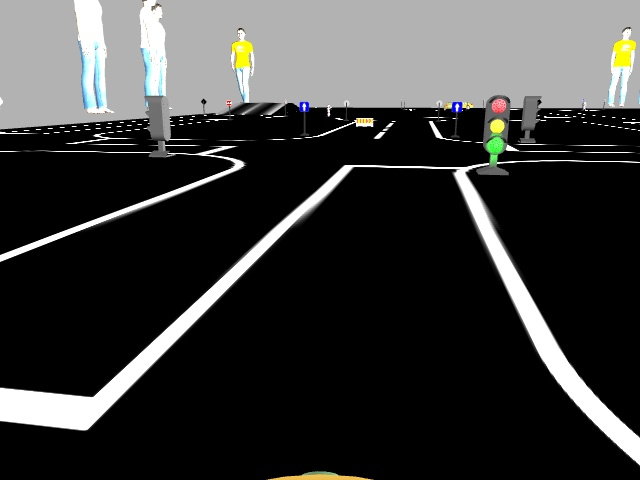ClosedRoadStand: (356, 117, 373, 126)
OneWay: (451, 101, 460, 112), (299, 101, 307, 111)
TrafficLight: (482, 95, 510, 155)
